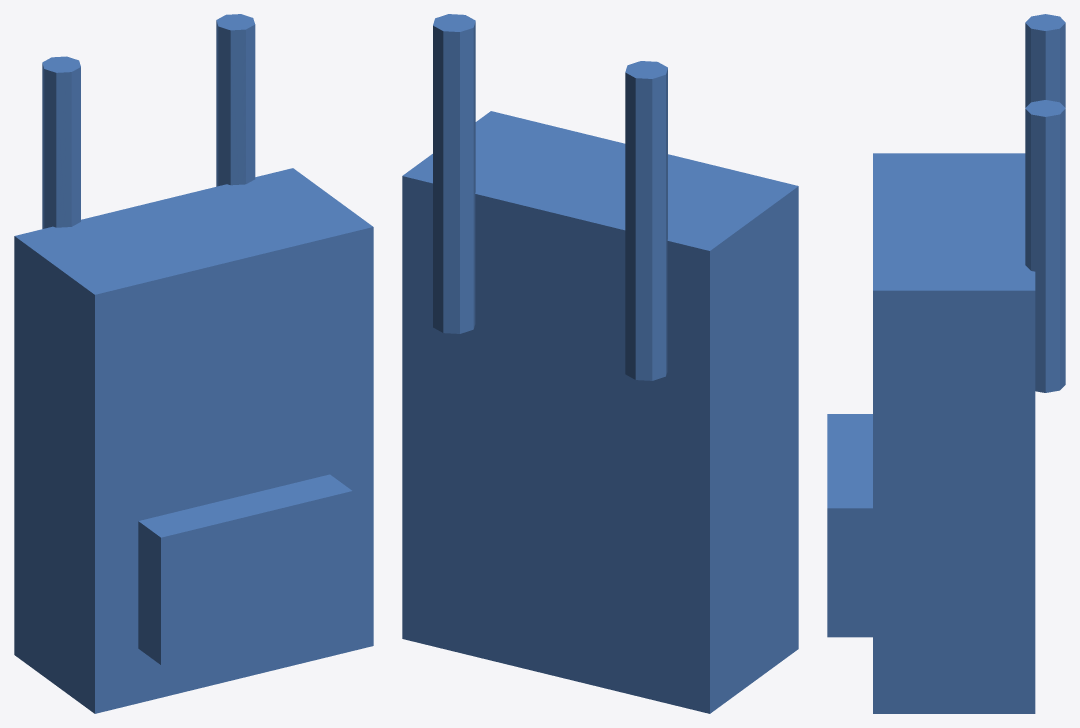
Rendered from c_backpack.glb.
3 views of the same model, side by side, from view 1: azimuth 30°, elevation 25°; view 2: azimuth 150°, elevation 25°; view 3: azimuth 270°, elevation 25° (orthographic). The views are drawn at different scales.
Parts seen in each view (by area): view 1: c_backpack; view 2: c_backpack; view 3: c_backpack.
Part boxes in pixels (left/top/right/bottom): c_backpack: left=14, top=14, right=373, bottom=713; c_backpack: left=402, top=14, right=798, bottom=713; c_backpack: left=827, top=14, right=1065, bottom=713.
Bounding box in the file's own units: 0.32 × 0.63 × 0.235.
